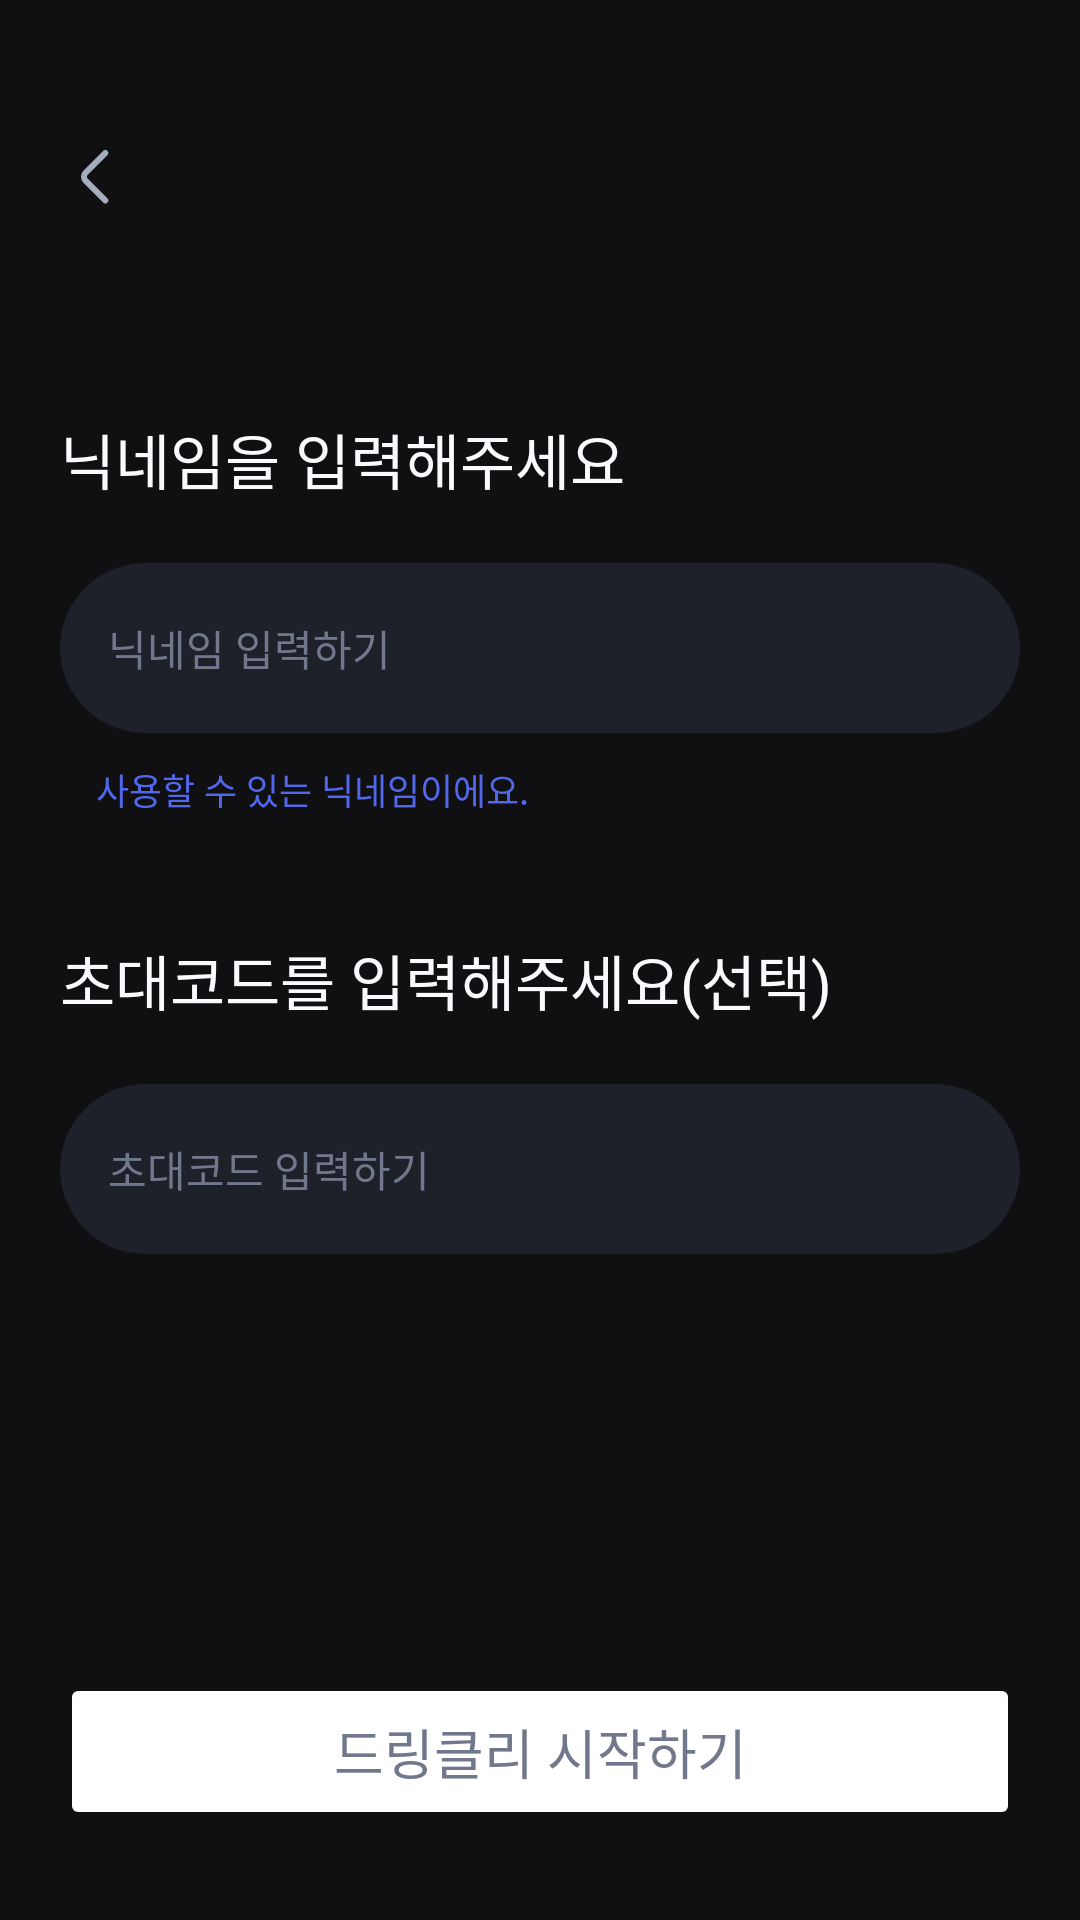

Icon bounding boxes for this 1080w x 1920h phone screenshot, format (x1, y1, x2, y2):
arrow left: (81, 150, 109, 204)
